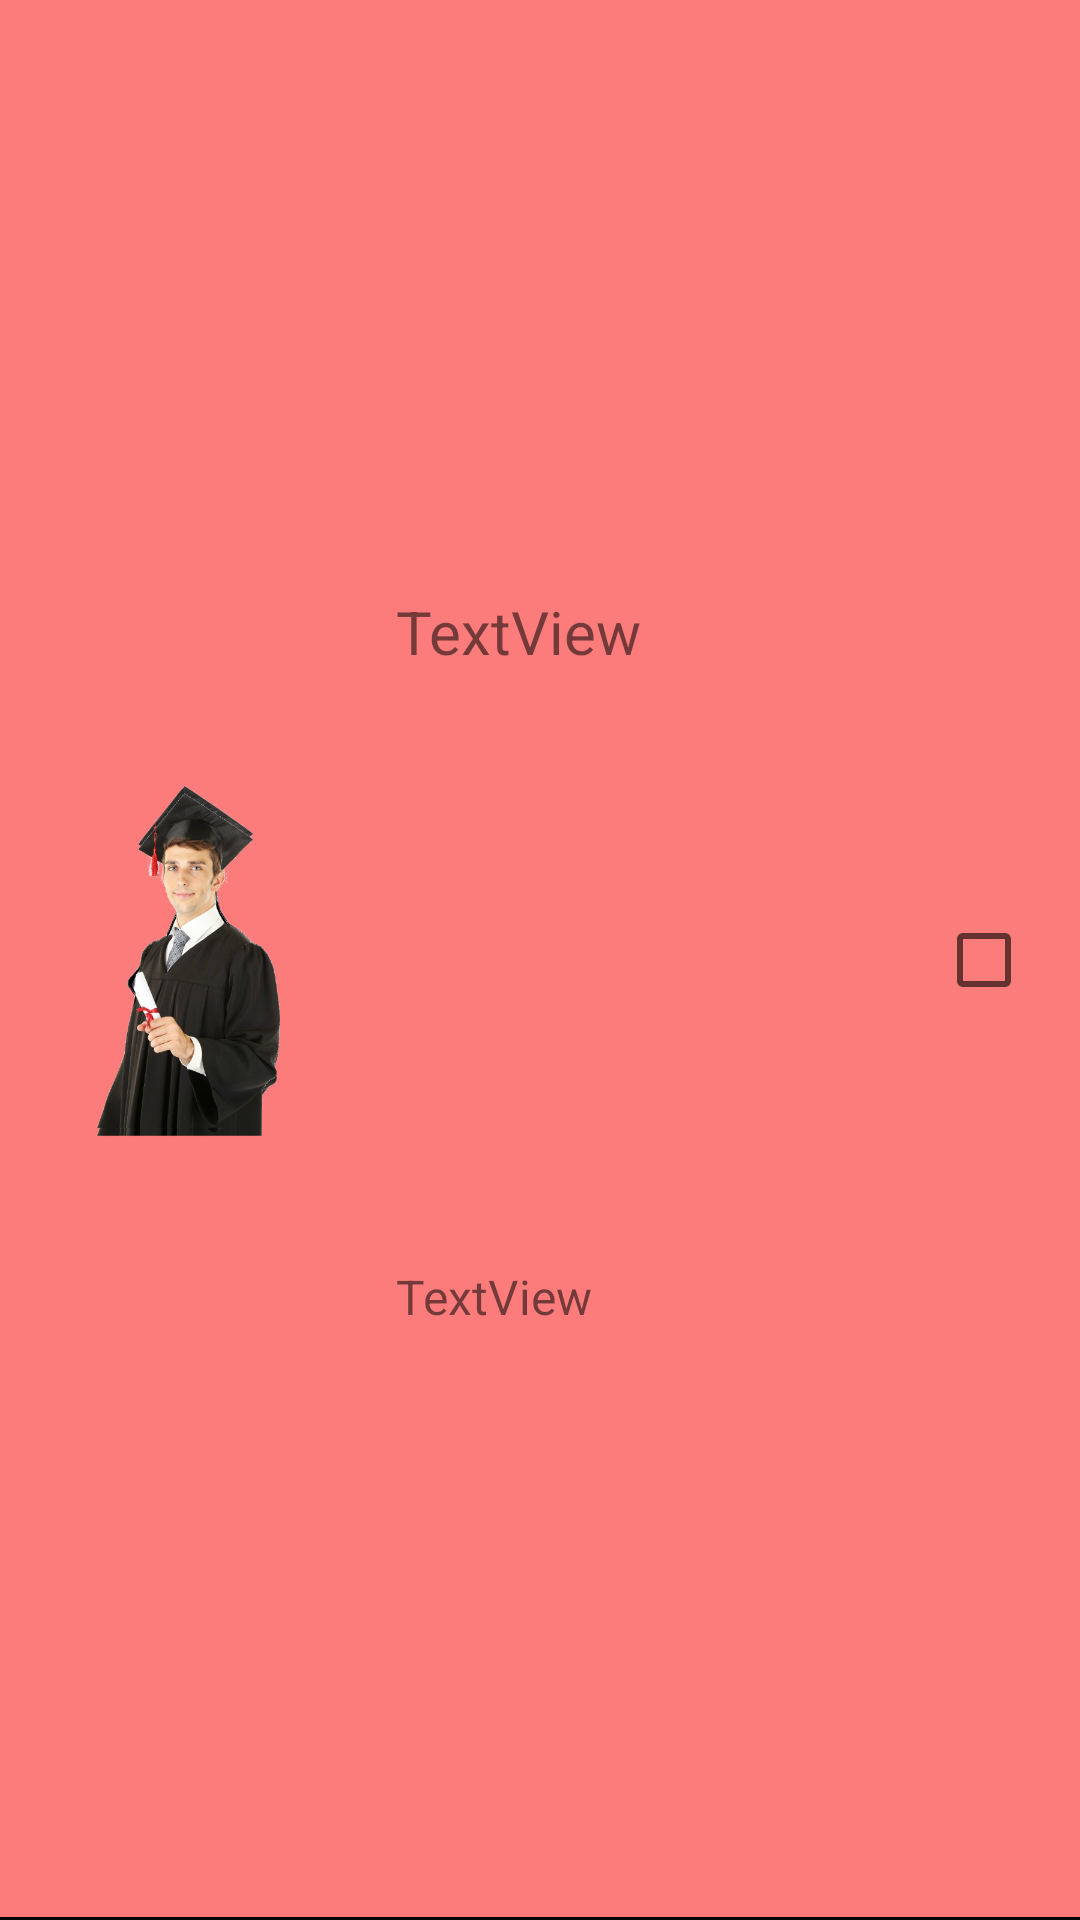

Named icons in this screenshot (1080*1920) and their centers, [x,y]:
student: [188,961]
